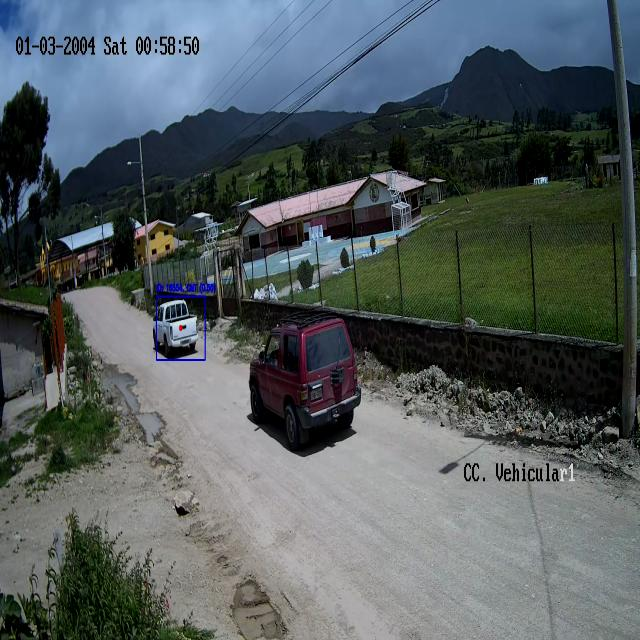SUV: (249, 313, 362, 454)
